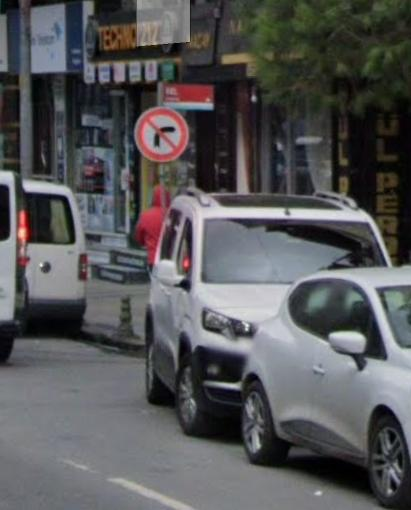rightturnsareforbidden: (137, 110, 187, 156)
